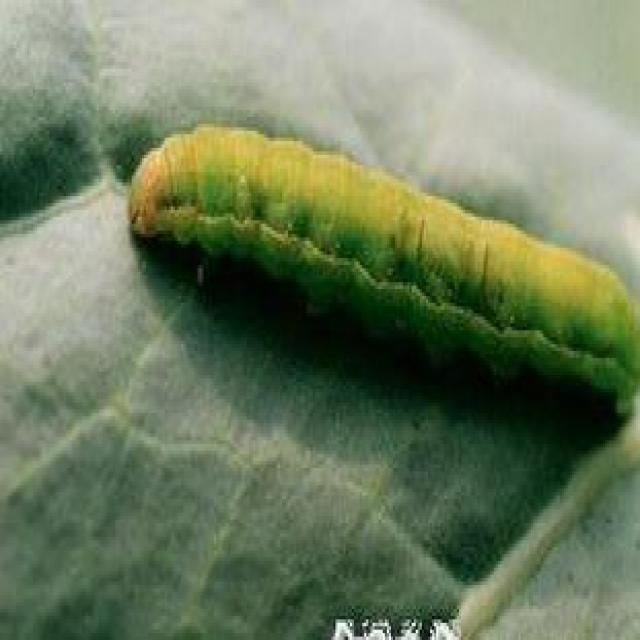BeetArmyWorm-Larva-: (121, 115, 638, 424)
